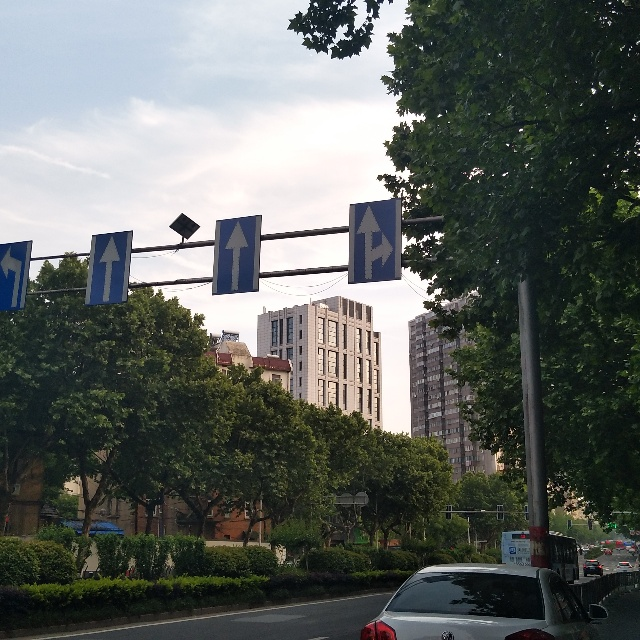left: (1, 239, 34, 311)
straight: (212, 215, 261, 296), (85, 230, 130, 306)
